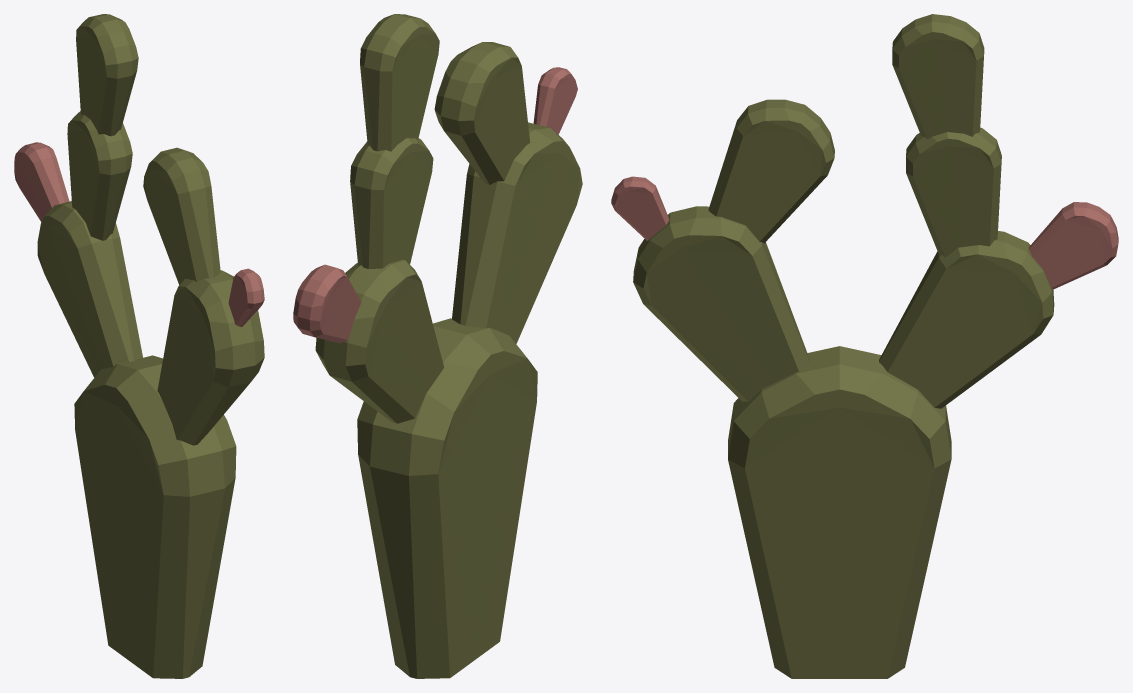
File: cactus_01.fbx
3 renders of one model, left to right at view 1: azimuth 30°, elevation 25°; view 2: azimuth 150°, elevation 25°; view 3: azimuth 270°, elevation 25°, orthographic. The views are drawn at different scales.
Visible parts, largest first — view 1: cactus_01; view 2: cactus_01; view 3: cactus_01.
Boxes of the visible parts, box(x1,y1,x2,y2) form: cactus_01: box(14, 14, 264, 678); cactus_01: box(293, 14, 582, 678); cactus_01: box(611, 14, 1118, 678).
Size of the model in its own units: 0.1801 by 0.9472 by 1.33.
